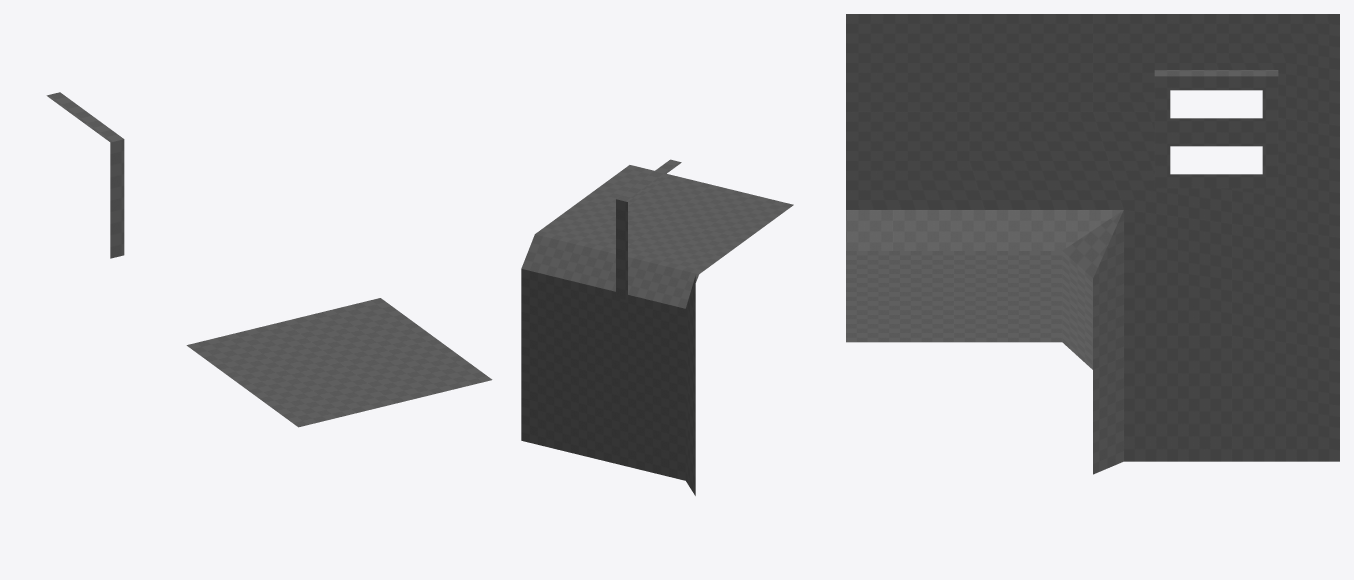
3 views of the same model, side by side, from view 1: azimuth 30°, elevation 25°; view 2: azimuth 150°, elevation 25°; view 3: azimuth 270°, elevation 25° (orthographic). The views are drawn at different scales.
Parts seen in each view (by area): view 1: CubeUpBackRight5V1; view 2: CubeUpBackRight5V1; view 3: CubeUpBackRight5V1.
Boxes of the visible parts, x1=… form: CubeUpBackRight5V1: x1=46, y1=92, x2=492, y2=427; CubeUpBackRight5V1: x1=521, y1=159, x2=793, y2=495; CubeUpBackRight5V1: x1=846, y1=14, x2=1339, y2=474.
Size of the model in its own units: 2 by 4 by 4.
Materials: 1 (1 with a texture image).
